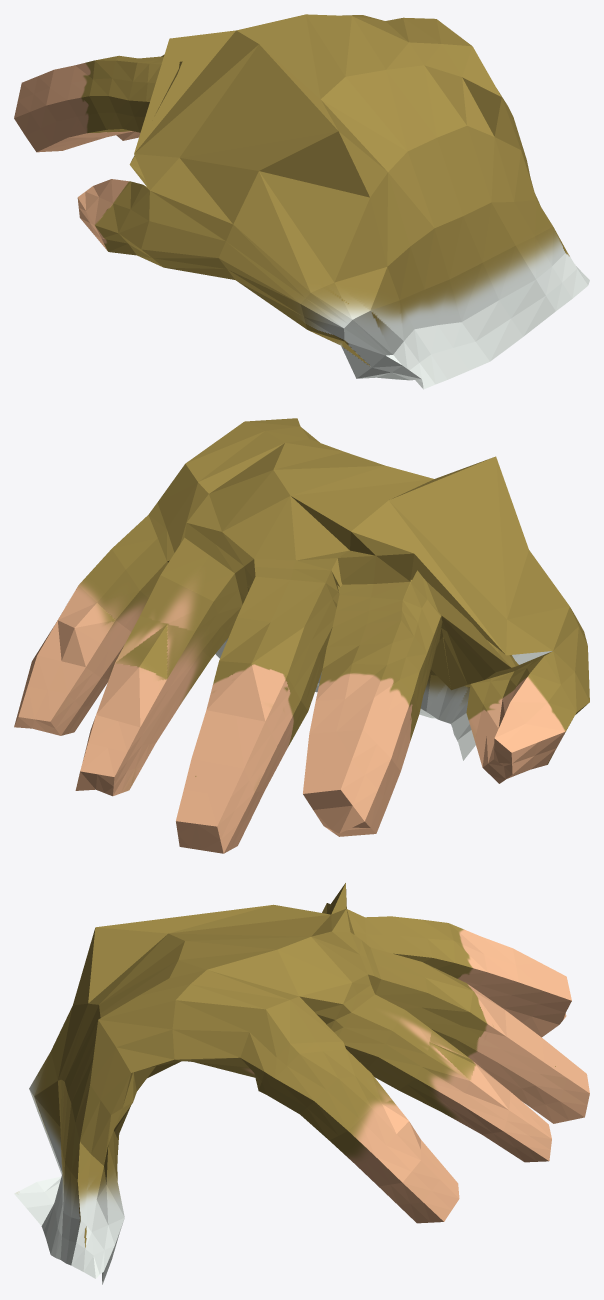
Rendered from flexion0058.obj.
3 views of the same model, one above another, from view 1: azimuth 30°, elevation 25°; view 2: azimuth 150°, elevation 25°; view 3: azimuth 270°, elevation 25° (orthographic). The views are drawn at different scales.
Parts seen in each view (by area): view 1: Hand; view 2: Hand; view 3: Hand.
Boxes of the visible parts, <box> form: Hand: <box>14,14,589,389</box>; Hand: <box>14,418,589,853</box>; Hand: <box>14,883,589,1284</box>.
Bounding box in the file's own units: 3.27 × 2.2 × 3.84.
